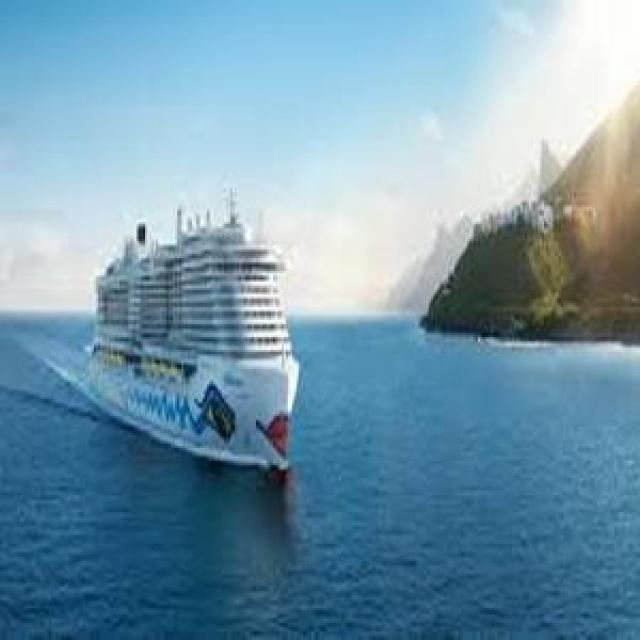passenger ship: (80, 198, 305, 474)
